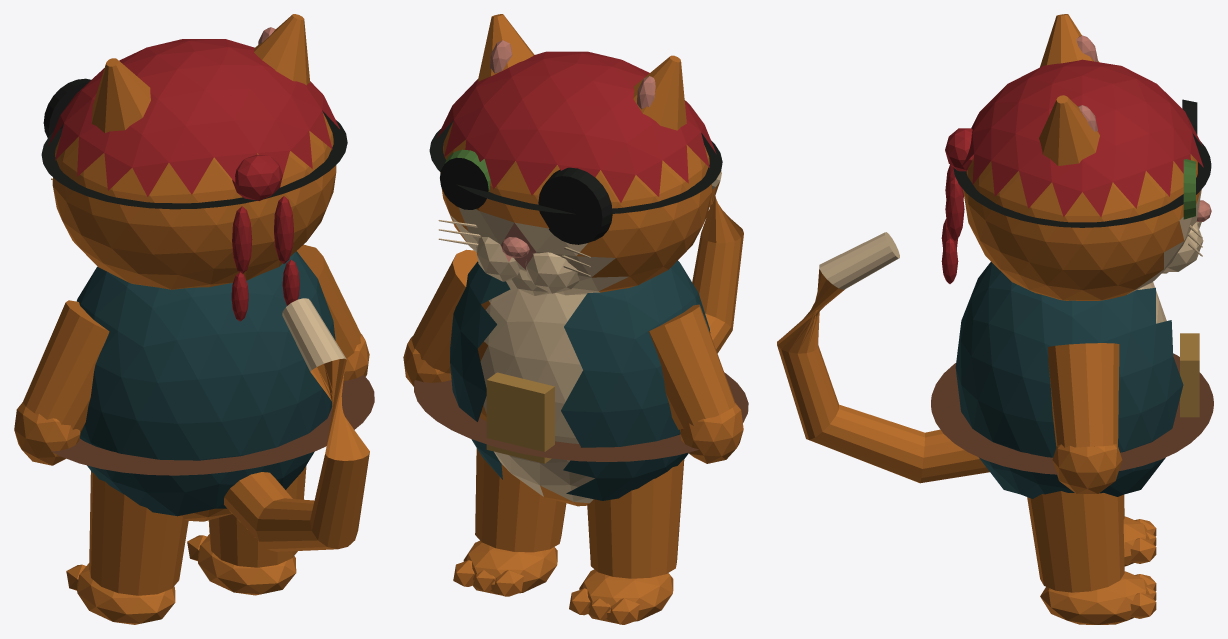
The picture shows the model from 3 angles, left to right: view 1: azimuth 30°, elevation 25°; view 2: azimuth 150°, elevation 25°; view 3: azimuth 270°, elevation 25°; orthographic projection. The views are drawn at different scales.
Size of the model in its own units: 0.7398 by 1.19 by 0.8739.
